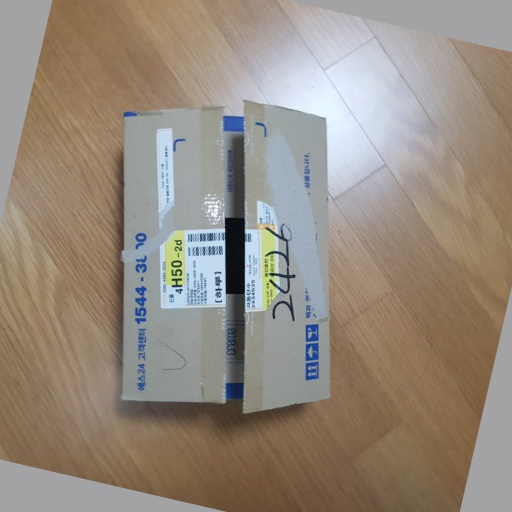Paper_0: (111, 99, 337, 418)
